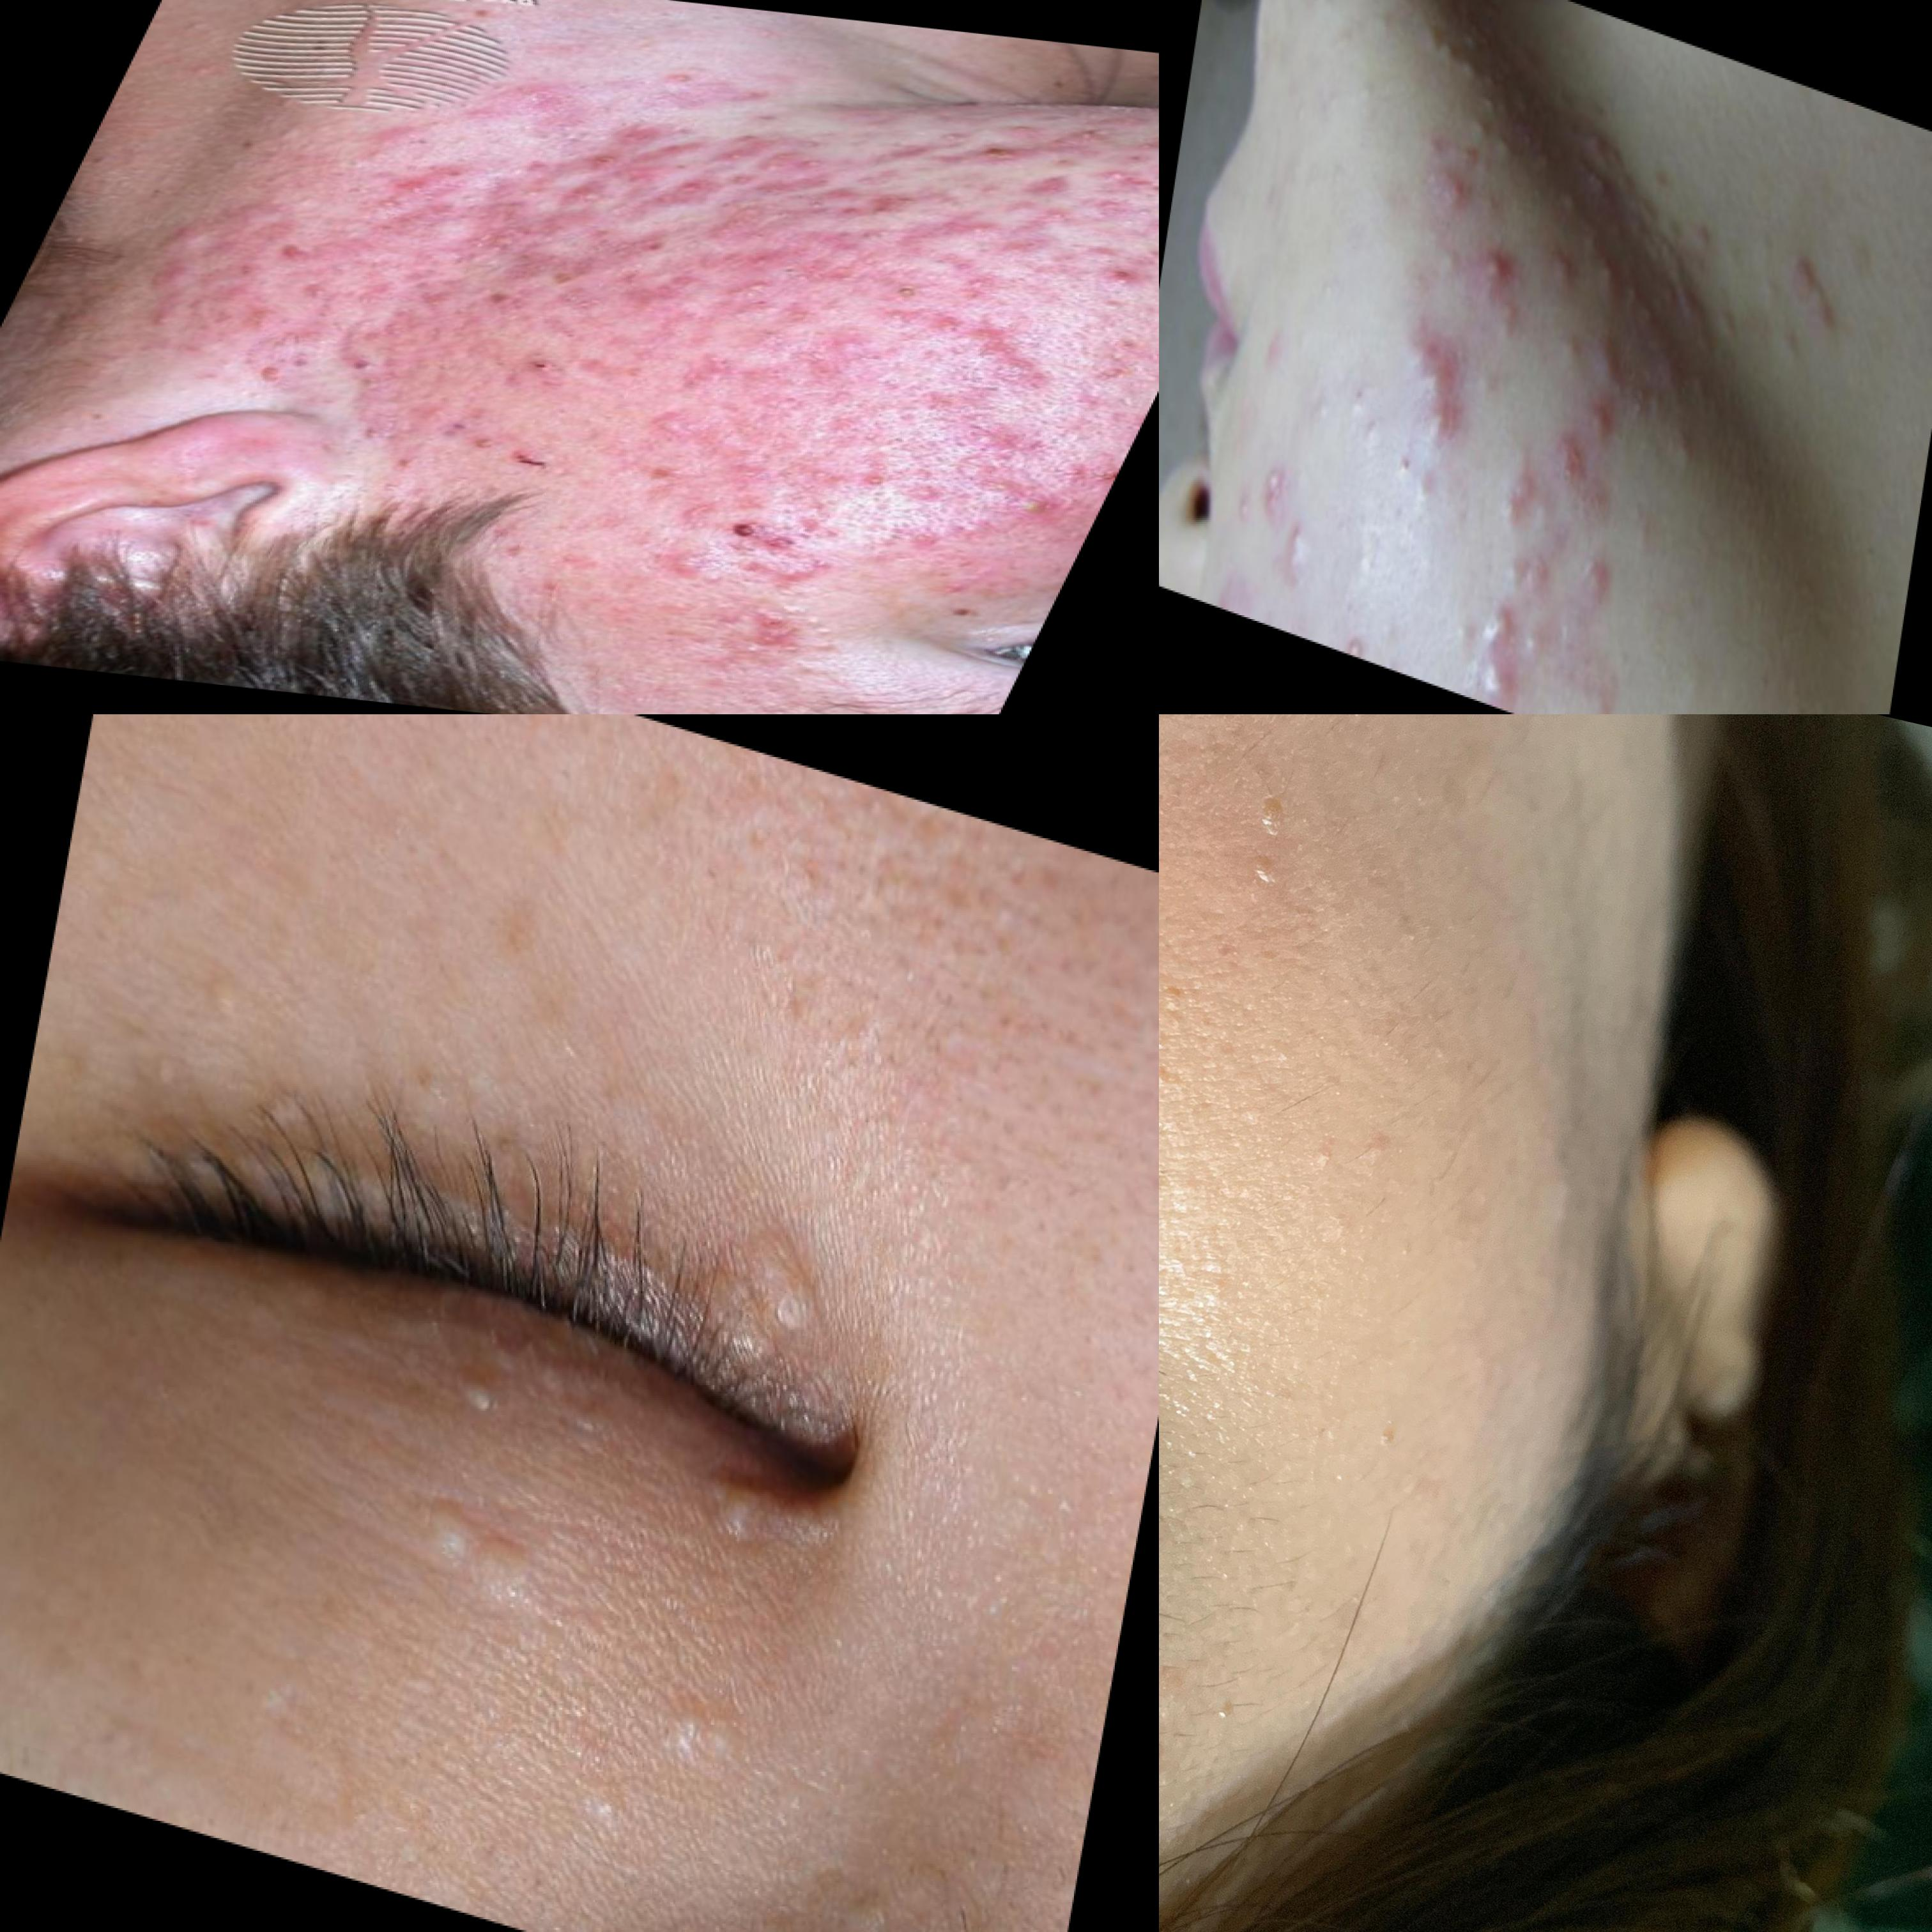cystic: (1399, 313, 1470, 409), (1583, 308, 1638, 407)
flat_wart: (679, 1224, 858, 1419), (391, 1477, 566, 1631), (644, 1674, 777, 1799), (543, 1369, 644, 1477)
milium: (439, 1366, 522, 1442), (140, 1024, 200, 1123), (196, 948, 258, 1035)
papular: (683, 582, 842, 660), (465, 329, 610, 396), (377, 133, 508, 207), (697, 502, 842, 557), (619, 395, 722, 451), (143, 219, 248, 265), (1003, 159, 1100, 207), (531, 173, 628, 216), (232, 301, 308, 343), (1550, 423, 1592, 492)
purulent: (1332, 602, 1392, 660), (1476, 587, 1520, 662), (1578, 398, 1622, 472), (1502, 449, 1539, 538), (1585, 543, 1626, 614), (1419, 402, 1463, 465), (1479, 239, 1511, 292), (1486, 660, 1507, 701)
sebo-crystan-conglo: (1421, 157, 1474, 226), (1258, 444, 1295, 520), (1548, 425, 1587, 494)
syringoma: (1198, 757, 1364, 950), (244, 1053, 377, 1166), (685, 1442, 800, 1569), (474, 1313, 570, 1398)
whitehead: (1417, 5, 1509, 115), (695, 271, 805, 313), (1076, 242, 1159, 297), (911, 299, 1010, 343), (846, 448, 931, 499), (998, 483, 1090, 529), (1477, 48, 1527, 126), (1465, 111, 1520, 175), (1713, 295, 1755, 352), (1668, 412, 1707, 467), (1629, 184, 1672, 234), (1553, 177, 1583, 221), (1637, 285, 1663, 334), (1598, 248, 1624, 292), (1375, 0, 1399, 46)
